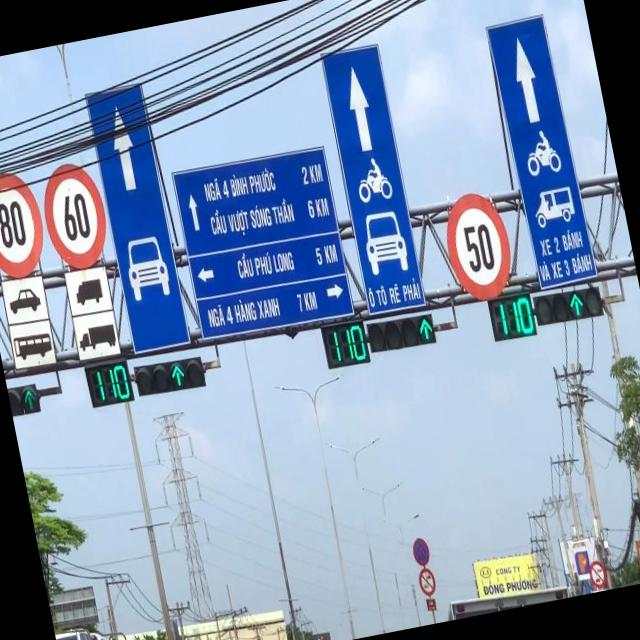P-127: (438, 188, 520, 308)
